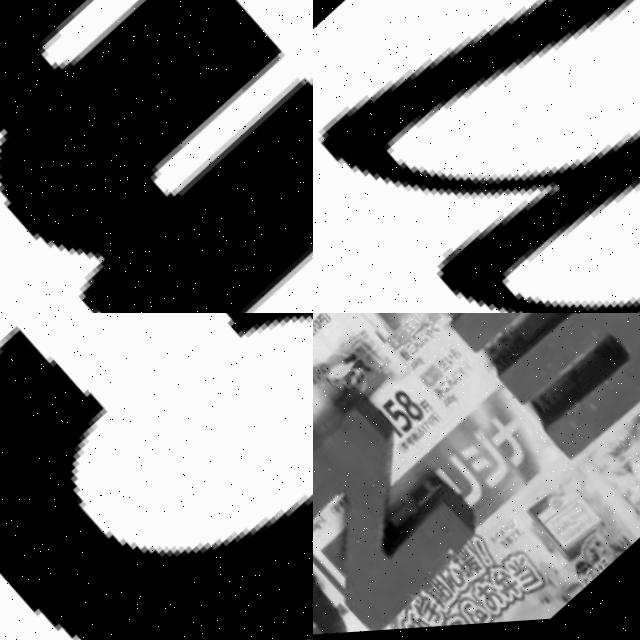C: (0, 326, 313, 640)
M: (313, 0, 640, 313), (0, 0, 313, 313)
N: (313, 389, 492, 640)
W: (443, 313, 640, 476)
